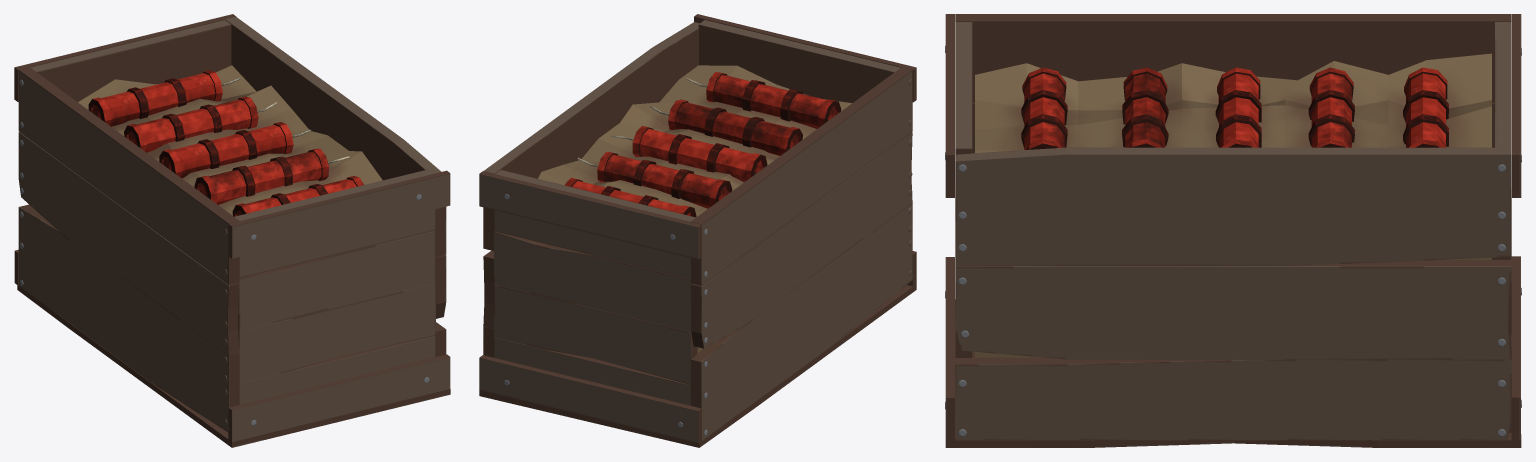
File: Crate_NoLid.fbx
3 renders of one model, left to right at view 1: azimuth 30°, elevation 25°; view 2: azimuth 150°, elevation 25°; view 3: azimuth 270°, elevation 25°, orthographic. The views are drawn at different scales.
Visible parts, largest first — view 1: Side_03.001, Side_02.001, Side_01.001, Side_04.001, Hay.001, polySurface18.006, polySurface18.005, TNT.001, polySurface18.003, Crate.001, polySurface18.007; view 2: Side_03.001, Side_04.001, Side_01.001, Side_02.001, Hay.001, polySurface18.007, polySurface18.006, polySurface18.005, polySurface18.003, Crate.001, TNT.001; view 3: Side_01.001, Side_03.001, Hay.001, Side_02.001, Side_04.001, Crate.001, polySurface18.007, polySurface18.006, polySurface18.005, polySurface18.003, TNT.001.
Part boxes in pixels (x1,y1,x2,y2): Side_03.001: (18,67,239,431); Side_02.001: (228,169,450,441); Side_01.001: (225,17,446,356); Side_04.001: (14,14,236,285); Hay.001: (78,65,382,215); polySurface18.006: (194,148,349,204); polySurface18.005: (159,122,311,178); TNT.001: (88,70,240,126); polySurface18.003: (124,96,277,152); Crate.001: (17,285,450,447); polySurface18.007: (232,176,363,216); Side_03.001: (690,67,912,440); Side_04.001: (479,170,701,443); Side_01.001: (483,22,699,357); Side_02.001: (694,14,916,286); Hay.001: (538,65,851,353); polySurface18.007: (686,72,841,128); polySurface18.006: (650,99,802,155); polySurface18.005: (611,126,767,182); polySurface18.003: (577,151,732,208); Crate.001: (479,284,916,447); TNT.001: (565,177,696,217); Side_01.001: (955,147,1511,440); Side_03.001: (955,14,1511,259); Hay.001: (975,53,1491,357); Side_02.001: (945,14,972,440); Side_04.001: (1495,14,1521,440); Crate.001: (945,299,1521,447); polySurface18.007: (1021,67,1067,149); polySurface18.006: (1122,67,1168,147); polySurface18.005: (1215,67,1261,147); polySurface18.003: (1308,67,1354,147); TNT.001: (1403,67,1448,147).
Bounding box in the file's own units: 71.89 × 69.43 × 124.
